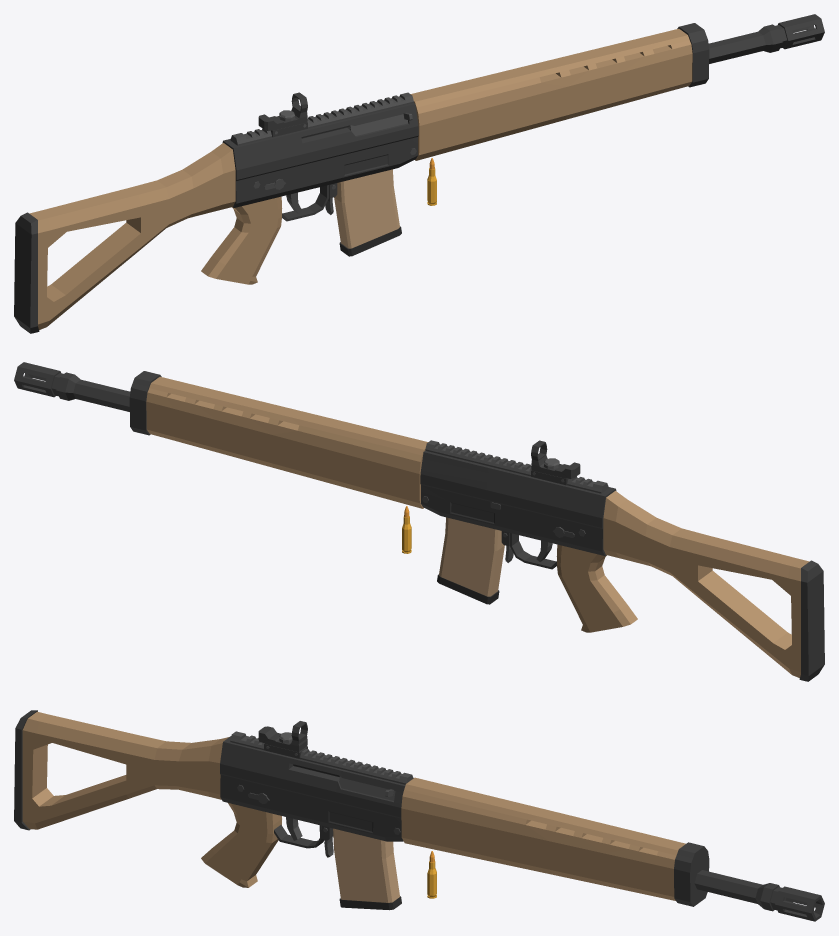
3 views of the same model, one above another, from view 1: azimuth 30°, elevation 25°; view 2: azimuth 150°, elevation 25°; view 3: azimuth 330°, elevation 25° (orthographic).
Parts seen in each view (by area): view 1: SG-550, Mag, Red Dot Sight; view 2: SG-550, Mag, Red Dot Sight; view 3: SG-550, Mag, Red Dot Sight.
Part boxes in pixels (box(x1,y1,x2,y2)): SG-550: box(14, 14, 824, 333); Mag: box(334, 169, 401, 256); Red Dot Sight: box(258, 92, 307, 137); SG-550: box(14, 362, 824, 681); Mag: box(437, 517, 504, 604); Red Dot Sight: box(531, 440, 580, 485); SG-550: box(14, 710, 824, 921); Mag: box(333, 828, 401, 910); Red Dot Sight: box(258, 721, 307, 758).
Bounding box in the file's own units: 824 × 171 × 39.49.
Materials: 1 (1 with a texture image).
